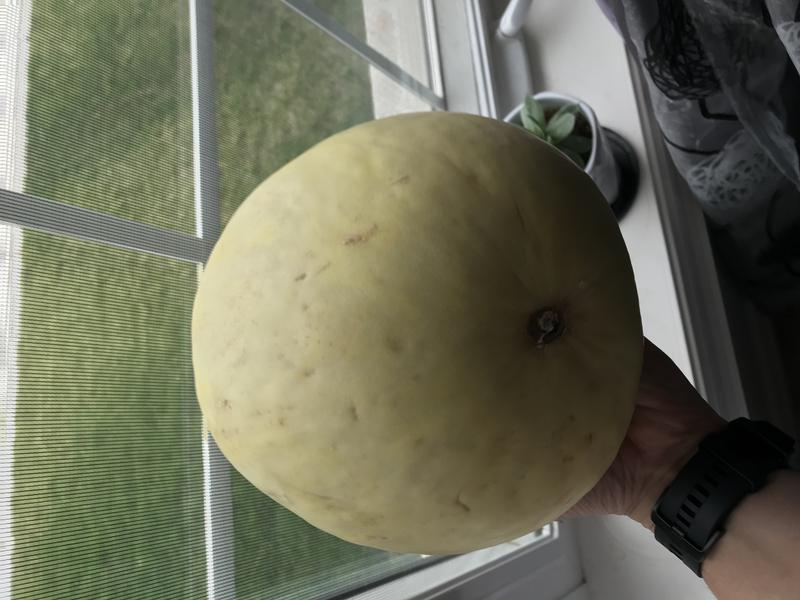honeydew: (179, 104, 651, 563)
